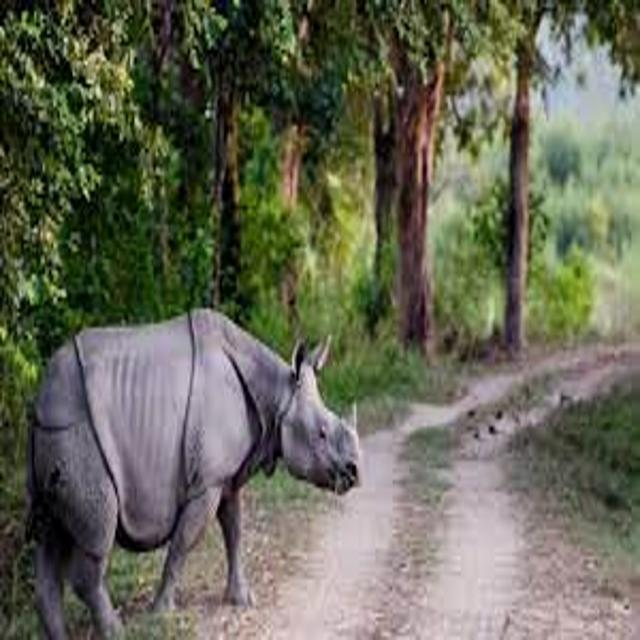rhino: (1, 280, 388, 640)
